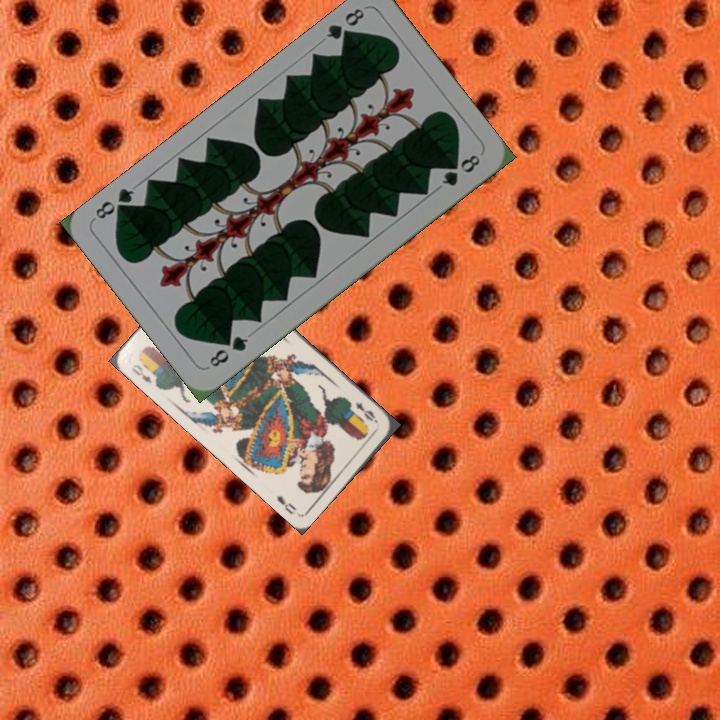EO: (351, 397, 381, 426), (128, 360, 155, 385)
G8: (322, 4, 367, 46), (203, 332, 251, 371)
